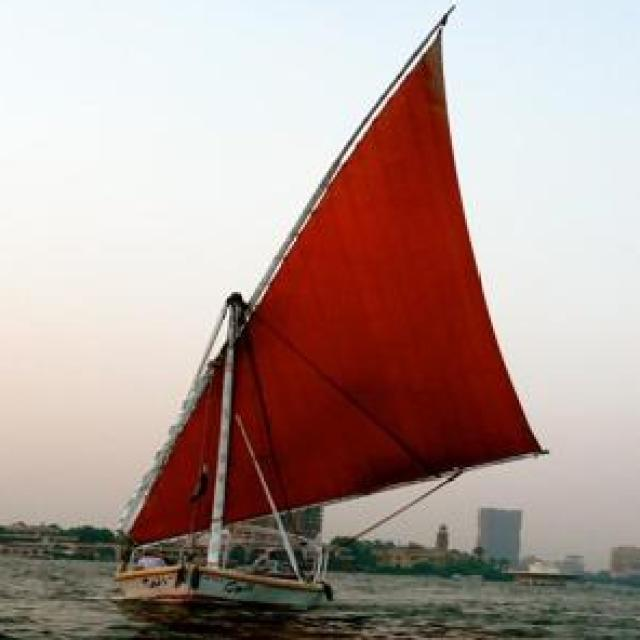sailboat: (116, 1, 554, 610)
